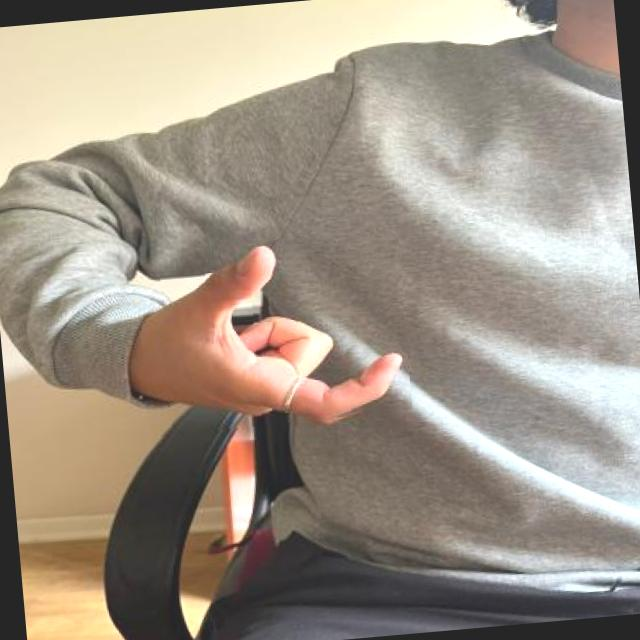G: (134, 229, 413, 437)
